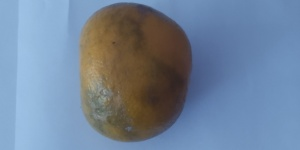BAD: (77, 1, 193, 140)
